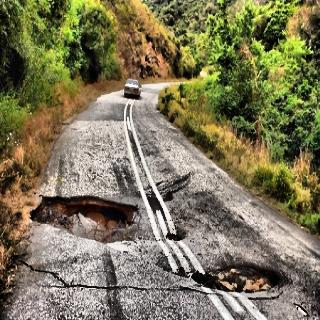pothole: (33, 185, 142, 249), (179, 255, 285, 301)
